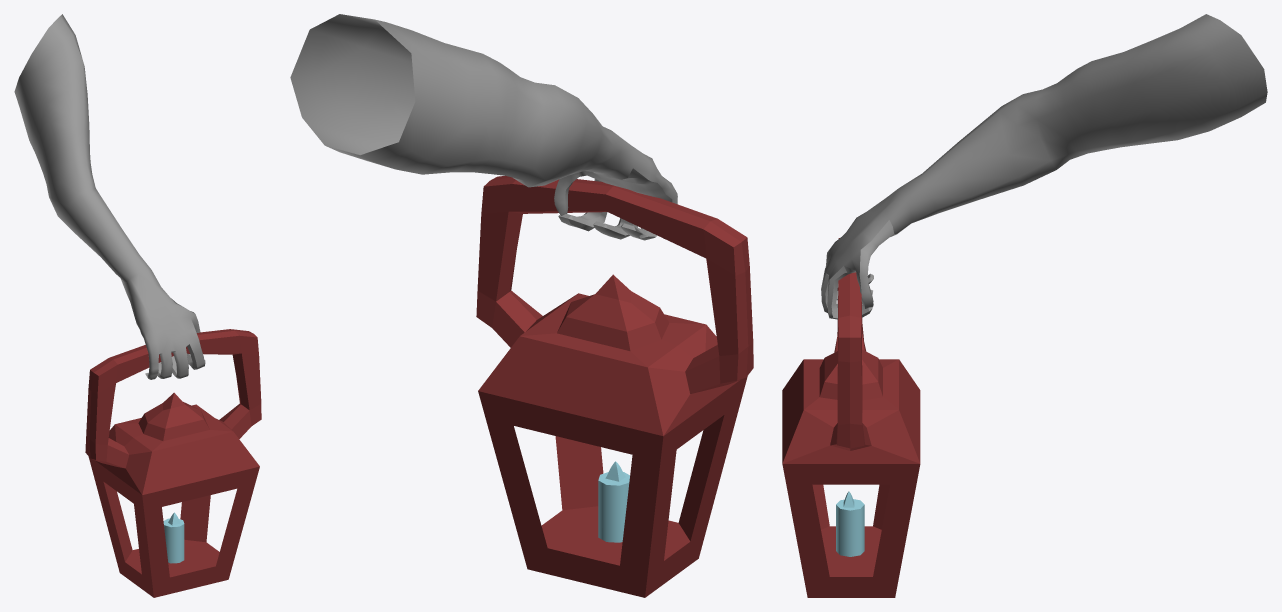
The model's file is abdhhdfusiafuodsfbhsg.FBX.
3 views of the same model, side by side, from view 1: azimuth 30°, elevation 25°; view 2: azimuth 150°, elevation 25°; view 3: azimuth 270°, elevation 25° (orthographic). The views are drawn at different scales.
Visible parts, largest first — view 1: Pyramid001, Cylinder001, Object001; view 2: Pyramid001, Cylinder001, Object001; view 3: Cylinder001, Pyramid001, Object001.
Boxes of the visible parts, <box> form: Pyramid001: <box>85,329,261,597</box>; Cylinder001: <box>14,14,205,379</box>; Object001: <box>163,512,184,563</box>; Pyramid001: <box>476,175,753,597</box>; Cylinder001: <box>290,14,677,240</box>; Object001: <box>598,461,629,542</box>; Cylinder001: <box>821,14,1267,319</box>; Pyramid001: <box>782,238,920,597</box>; Object001: <box>836,491,864,556</box>.
Size of the model in its own units: 4.96 by 12.57 by 9.64.
